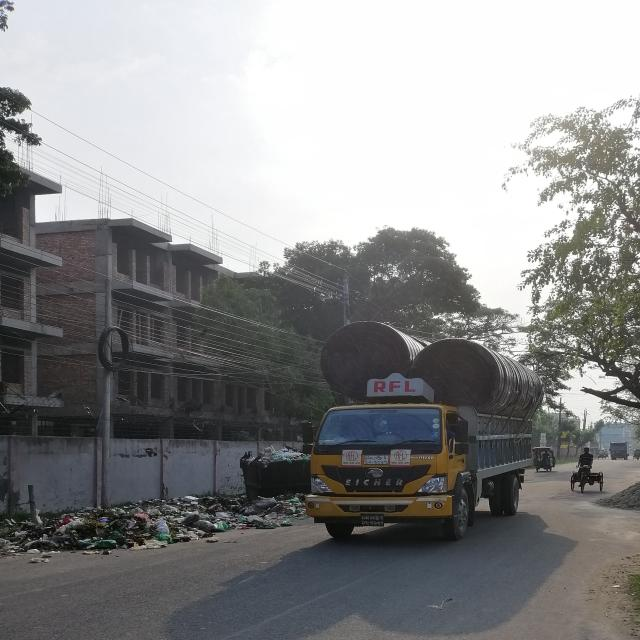Truck: (276, 319, 556, 543)
